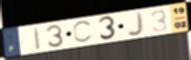3: (97, 15, 119, 42), (45, 24, 66, 48), (150, 9, 169, 33)
C: (71, 19, 94, 44)
I: (33, 25, 42, 51)
J: (127, 11, 146, 38)
